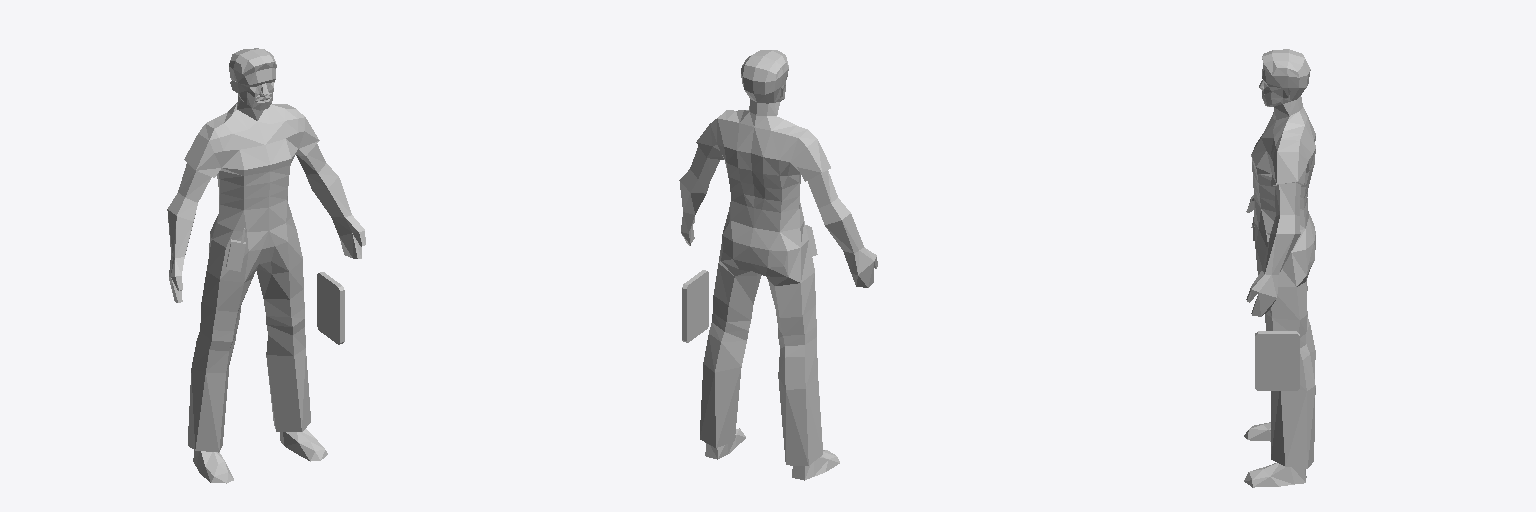
Rendered from pedestrian_male.obj.
3 views of the same model, side by side, from view 1: azimuth 30°, elevation 25°; view 2: azimuth 150°, elevation 25°; view 3: azimuth 270°, elevation 25° (orthographic).
Visible parts, largest first — view 1: Male_ref:BluecollarMaleMesh_0; view 2: Male_ref:BluecollarMaleMesh_0; view 3: Male_ref:BluecollarMaleMesh_0.
Boxes of the visible parts, <box> form: Male_ref:BluecollarMaleMesh_0: <box>167,48,365,483</box>; Male_ref:BluecollarMaleMesh_0: <box>679,50,877,480</box>; Male_ref:BluecollarMaleMesh_0: <box>1244,49,1315,487</box>.
Size of the model in its own units: 0.858 by 1.74 by 0.2799.